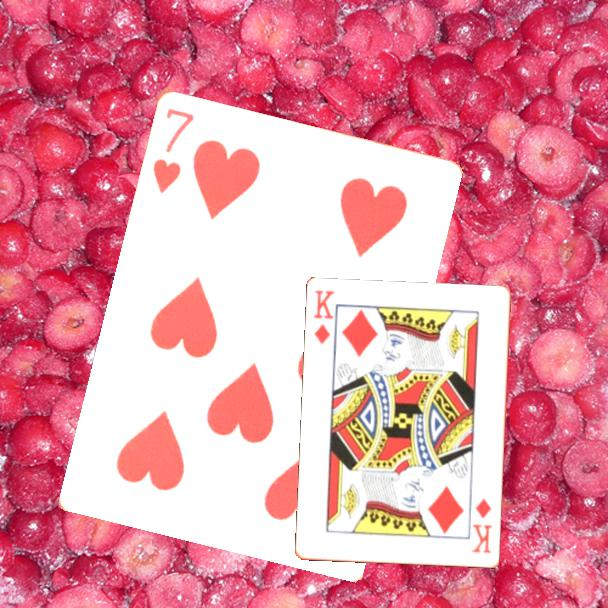d13: (468, 495, 495, 556), (311, 287, 337, 348)
h07: (149, 105, 197, 197)
